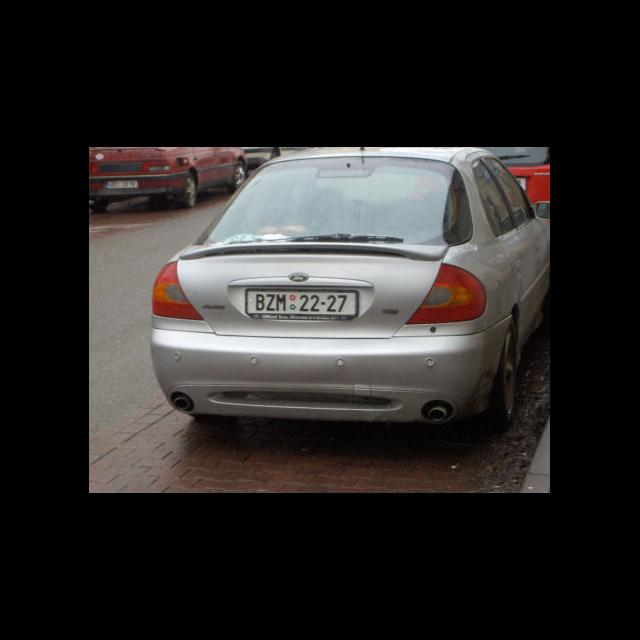Plate: (244, 286, 360, 318)
